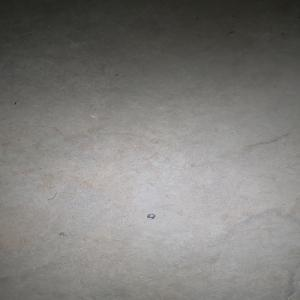Nut: (146, 213, 155, 219)
